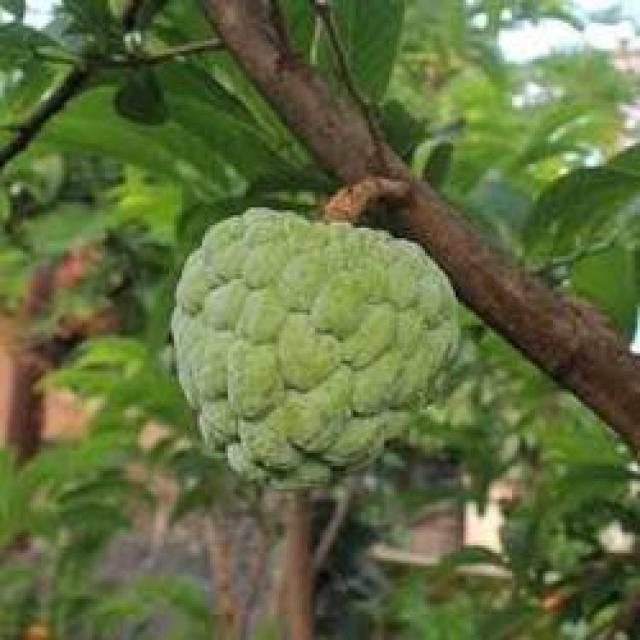custard_apple: (159, 187, 466, 486)
